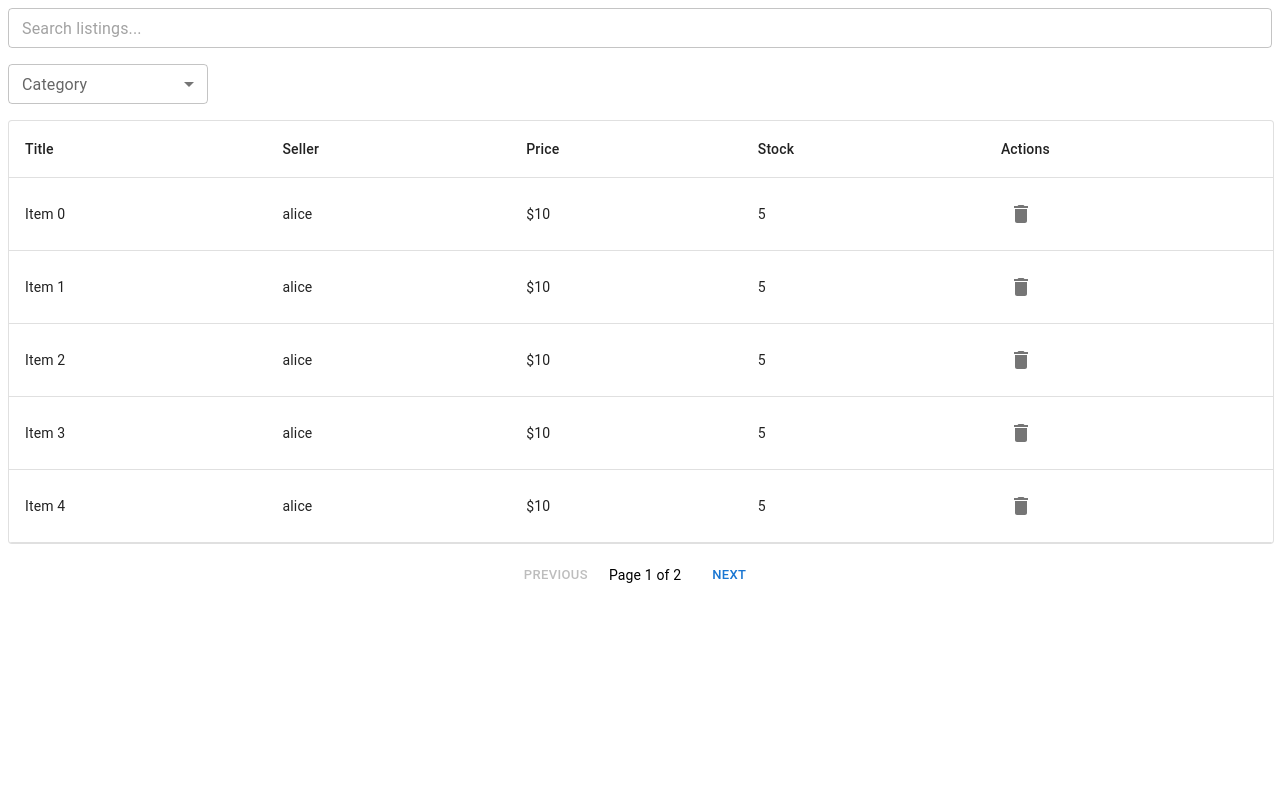
Pagination › navigates to next page
Expected: the text "Item 0" is shown, [9, 178, 266, 250]
What coordinates should you click on to do the following:
click the button "Next"
I would click on:
 (729, 575)
Its box is [697, 560, 761, 591].
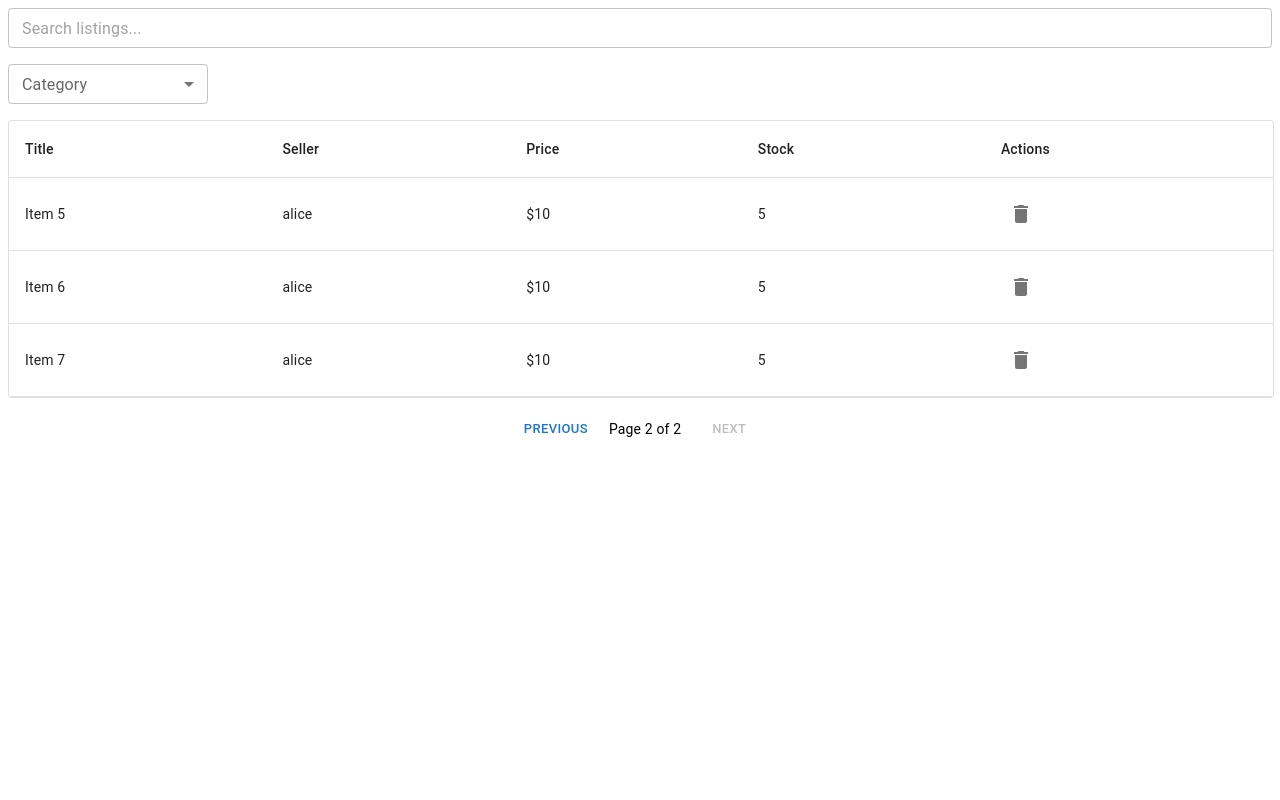
Expected: the text "Item 5" is shown, [9, 178, 266, 250]
Expected: the text "Item 0" is gone
